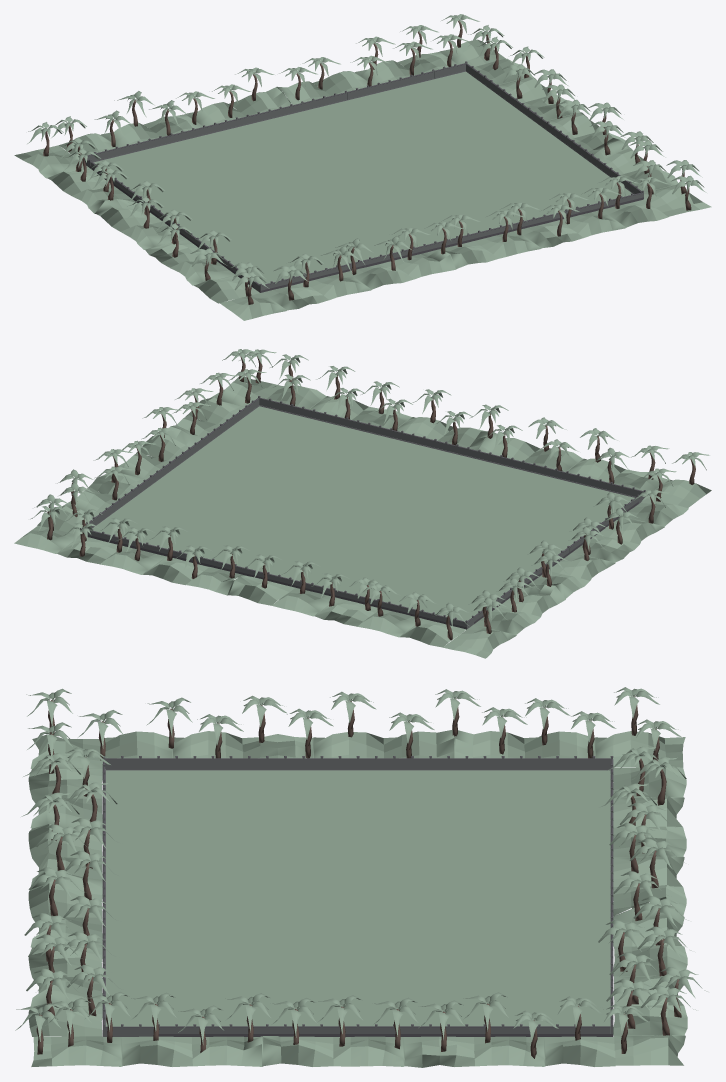
File: GroundLatest.fbx
3 views of the same model, one above another, from view 1: azimuth 30°, elevation 25°; view 2: azimuth 150°, elevation 25°; view 3: azimuth 270°, elevation 25° (orthographic). The views are drawn at different scales.
Parts seen in each view (by area): view 1: Debris.001, Debris; view 2: Debris.001, Debris; view 3: Debris.001, Debris.
Boxes of the visible parts, x1,y1,x2,y2 form: Debris.001: (93, 71, 633, 284); Debris: (14, 14, 711, 320); Debris.001: (92, 406, 634, 621); Debris: (14, 349, 711, 658); Debris.001: (106, 770, 610, 1026); Debris: (15, 687, 707, 1067).
Size of the model in its own units: 28861 by 2454 by 25125.
